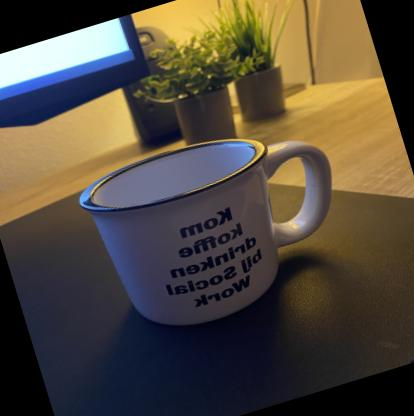Cup: (68, 104, 366, 354)
